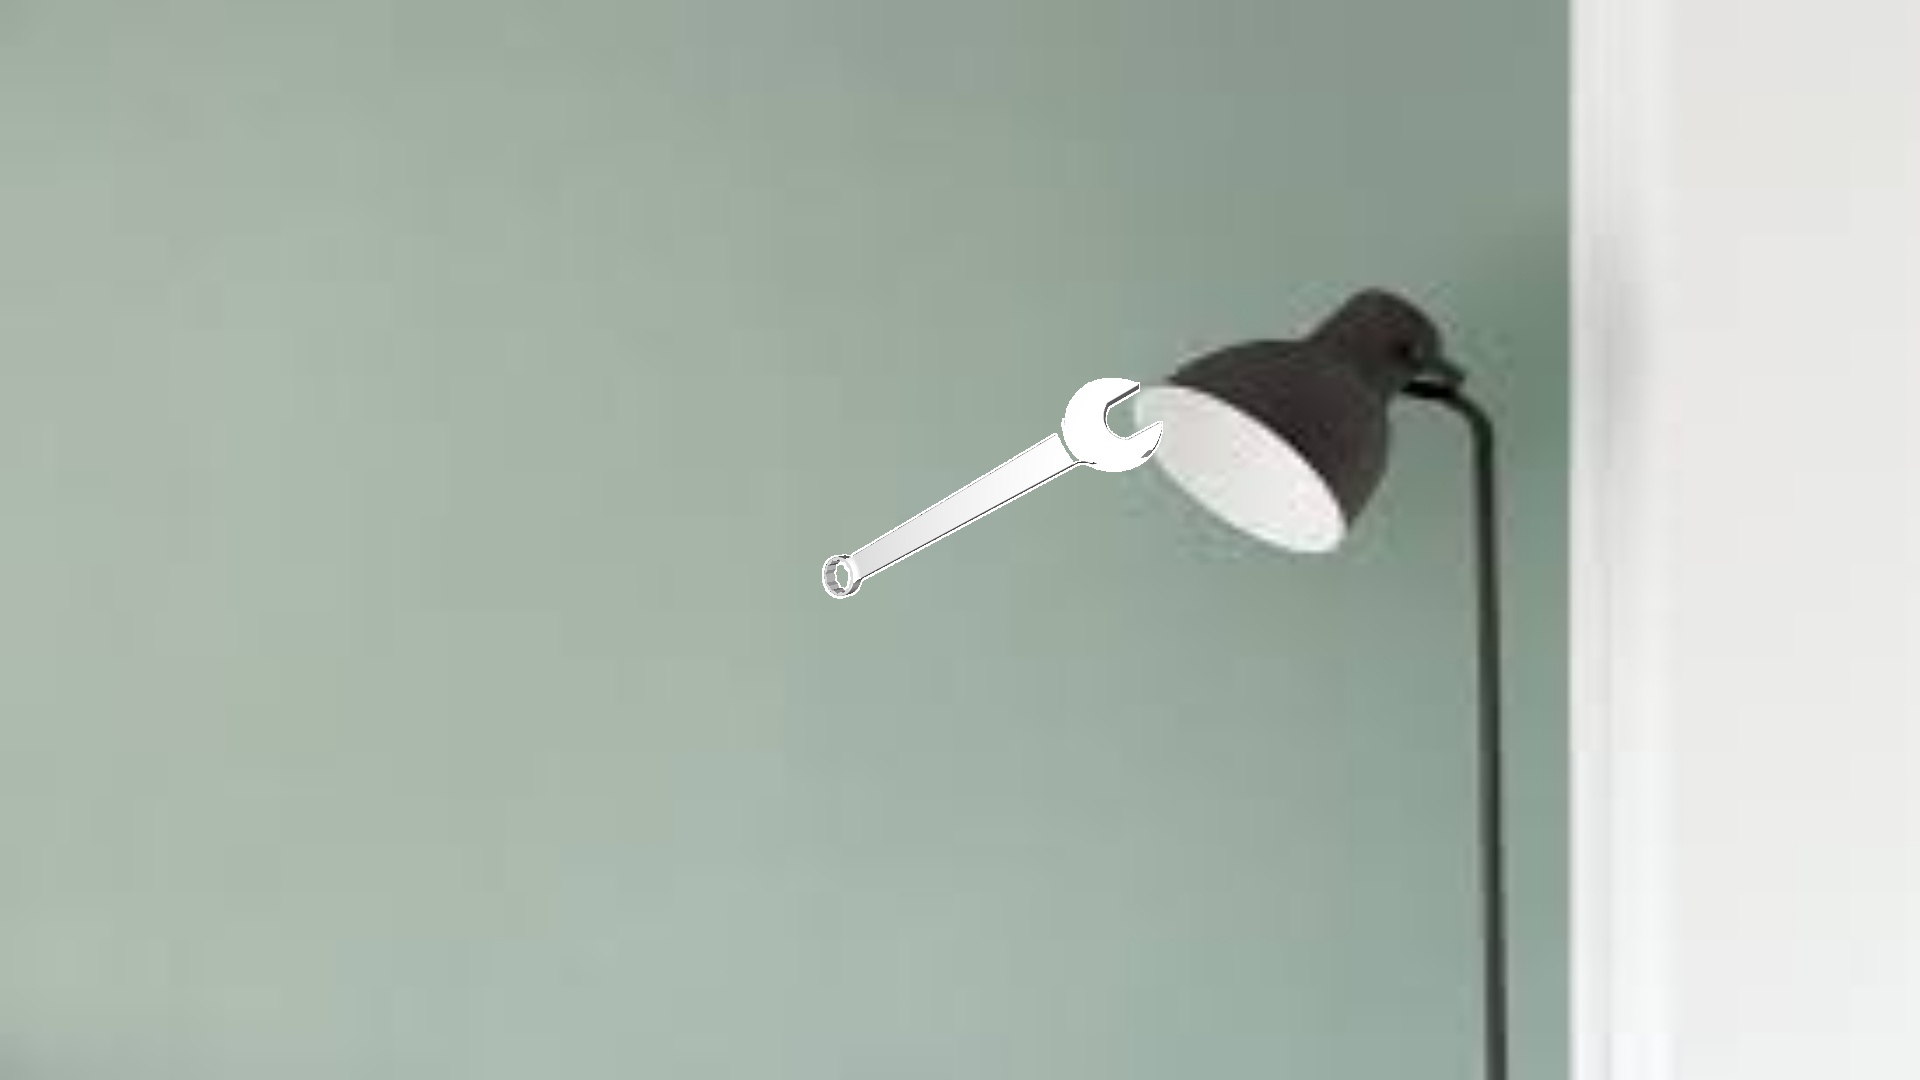Mixed Key: (822, 378, 1162, 597)
